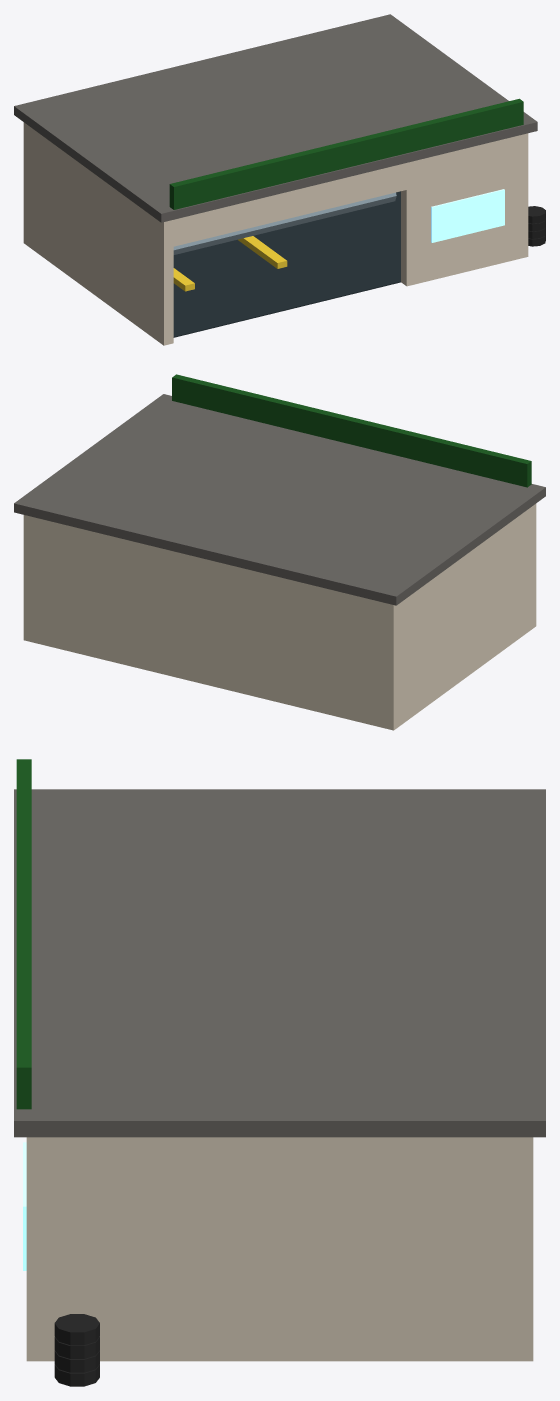
Rendered from exits_garage.glb.
3 renders of one model, top to bottom at view 1: azimuth 30°, elevation 25°; view 2: azimuth 150°, elevation 25°; view 3: azimuth 270°, elevation 25°, orthographic. The views are drawn at different scales.
Visible parts, largest first — view 1: ExitsGarage_body; view 2: ExitsGarage_body; view 3: ExitsGarage_body.
Part boxes in pixels (x1,y1,x2,y2): ExitsGarage_body: (14, 14, 545, 345); ExitsGarage_body: (14, 374, 545, 730); ExitsGarage_body: (14, 759, 545, 1386).
Bounding box in the file's own units: 16.48 × 6.25 × 10.5.
